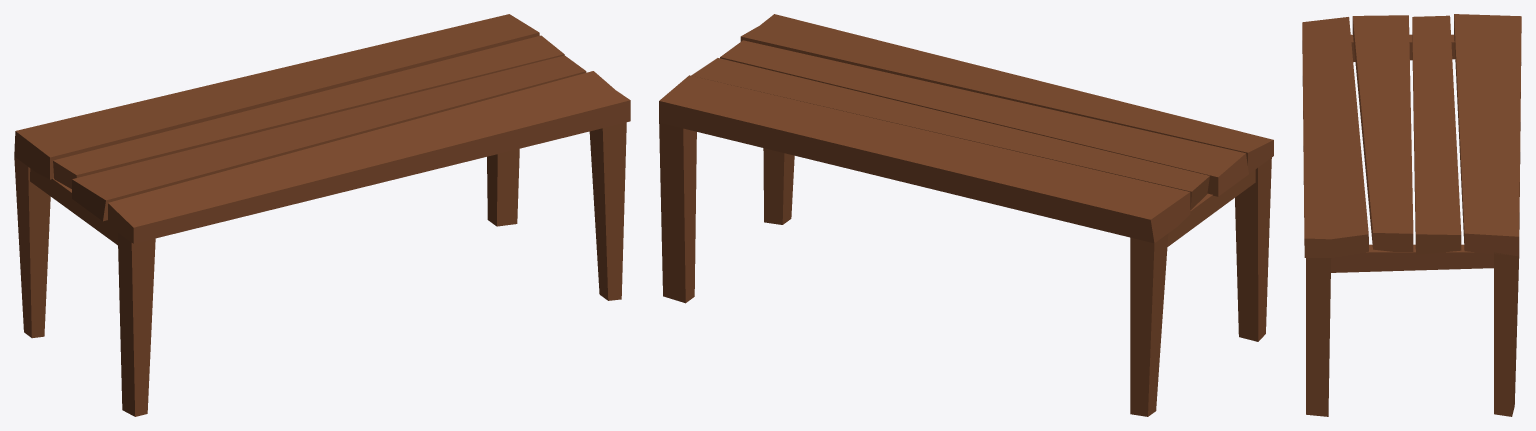
The model's file is tableplank03.gltf.
The picture shows the model from 3 angles, left to right: view 1: azimuth 30°, elevation 25°; view 2: azimuth 150°, elevation 25°; view 3: azimuth 270°, elevation 25°; orthographic projection. The views are drawn at different scales.
Visible parts, largest first — view 1: Cube; view 2: Cube; view 3: Cube.
Part boxes in pixels (bbox=[...]): Cube: bbox=[14, 14, 630, 416]; Cube: bbox=[659, 14, 1273, 416]; Cube: bbox=[1302, 14, 1521, 416].
Size of the model in its own units: 2.08 by 0.8 by 0.8671.
Materials: 1 (1 with a texture image).
